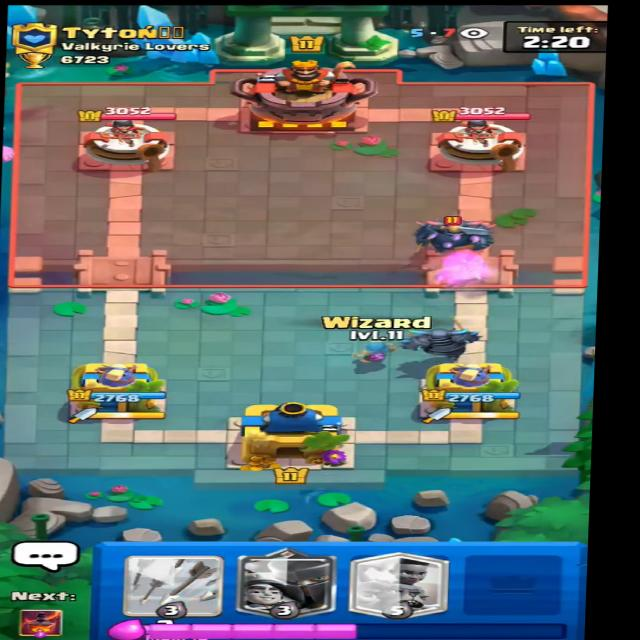pekka: (410, 211, 502, 255)
